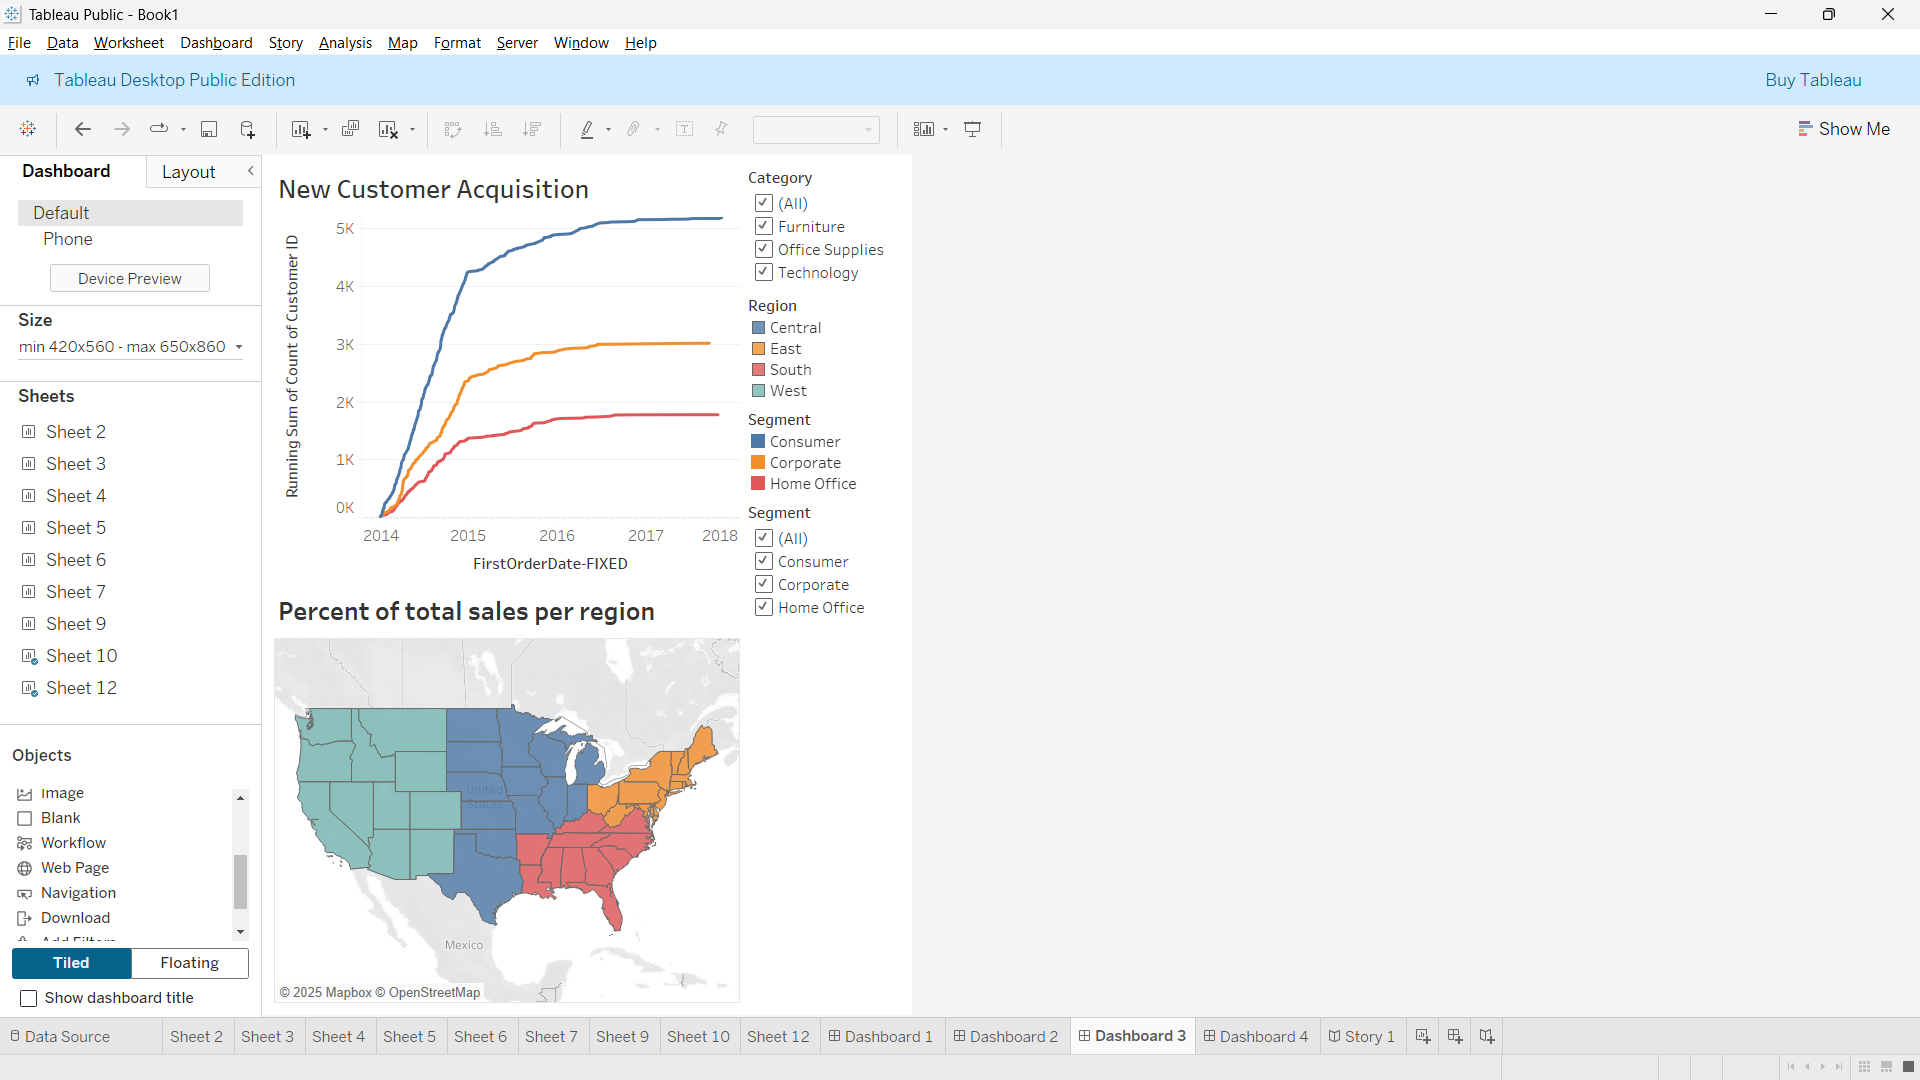

What the dashboard file says about the page in this screenshot:
{"tool":"tableau","page":{"name":"Dashboard 3","canvas":[650,860],"ordinal":2},"visuals":[{"type":"worksheet","title":"Sheet 10","mark":"Line","rows":["Customer ID"],"cols":["Calculation_1770477629054828547"],"box":[8,8,474,422]},{"type":"filter","title":"Sheet 12","param":"[federated.1mjna6y103fx9n1esx44g04ma0pt].[none:Category:nk]","box":[482,8,160,128]},{"type":"legend","title":"Sheet 12","param":"[federated.1mjna6y103fx9n1esx44g04ma0pt].[none:Region:nk]","box":[482,136,160,114]},{"type":"legend","title":"Sheet 10","param":"[federated.1mjna6y103fx9n1esx44g04ma0pt].[none:Segment:nk]","box":[482,250,160,93]},{"type":"filter","title":"Sheet 10","param":"[federated.1mjna6y103fx9n1esx44g04ma0pt].[none:Segment:nk]","box":[482,343,160,128]},{"type":"worksheet","title":"Sheet 12","mark":"Multipolygon","box":[8,430,474,422]}]}

Visuals, with their boxes on the page's 650x860 design canvas (x1, y1, x2, y2). These are canvas units, not pixel positions in the 1920x1080 screenshot, which may show the page scaled, cropped or inside an application window:
"Sheet 10" worksheet (Line marks): x1=8 y1=8 x2=482 y2=430
"Sheet 12" filter: x1=482 y1=8 x2=642 y2=136
"Sheet 12" legend: x1=482 y1=136 x2=642 y2=250
"Sheet 10" legend: x1=482 y1=250 x2=642 y2=343
"Sheet 10" filter: x1=482 y1=343 x2=642 y2=471
"Sheet 12" worksheet (Multipolygon marks): x1=8 y1=430 x2=482 y2=852
